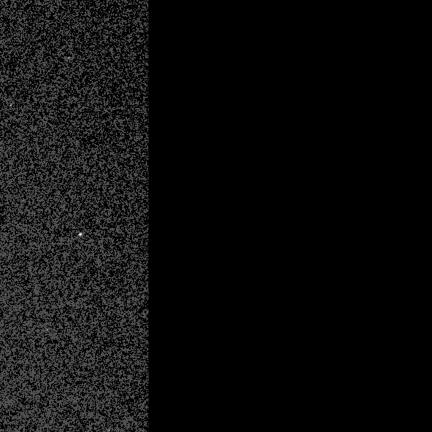blob: (79, 233, 83, 237)
